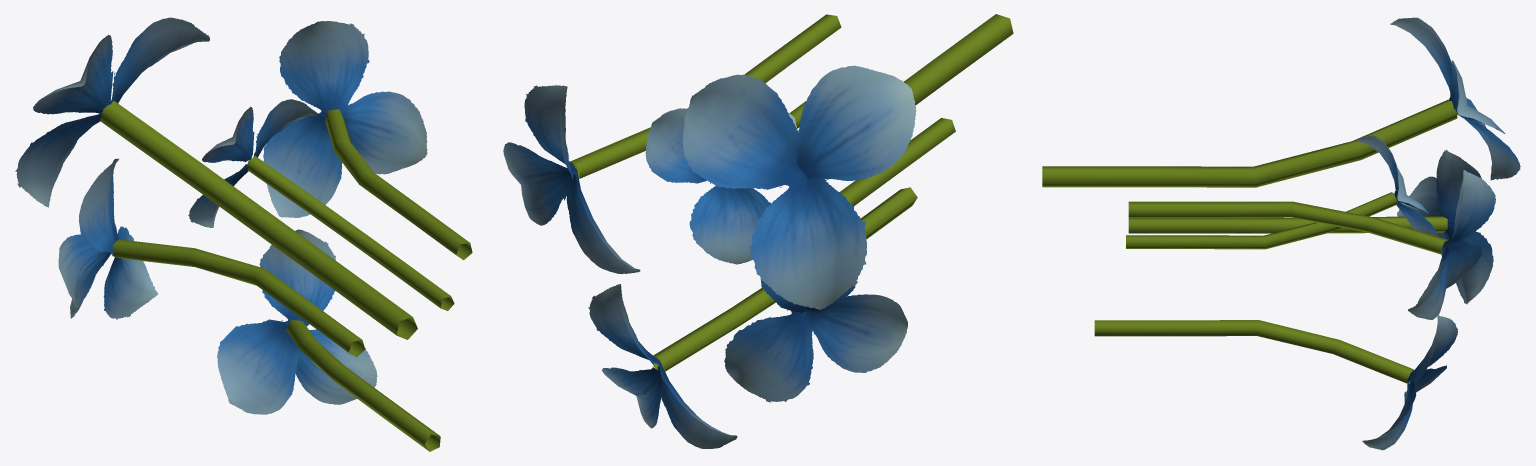
The model's file is flower.fbx.
3 renders of one model, left to right at view 1: azimuth 30°, elevation 25°; view 2: azimuth 150°, elevation 25°; view 3: azimuth 270°, elevation 25°, orthographic. The views are drawn at different scales.
Parts seen in each view (by area): view 1: Plane.062; view 2: Plane.062; view 3: Plane.062.
Boxes of the visible parts, bbox=[...] form: Plane.062: bbox=[15, 17, 472, 451]; Plane.062: bbox=[503, 14, 1013, 448]; Plane.062: bbox=[1042, 17, 1520, 450].
Size of the model in its own units: 74.22 by 74.75 by 93.07.
